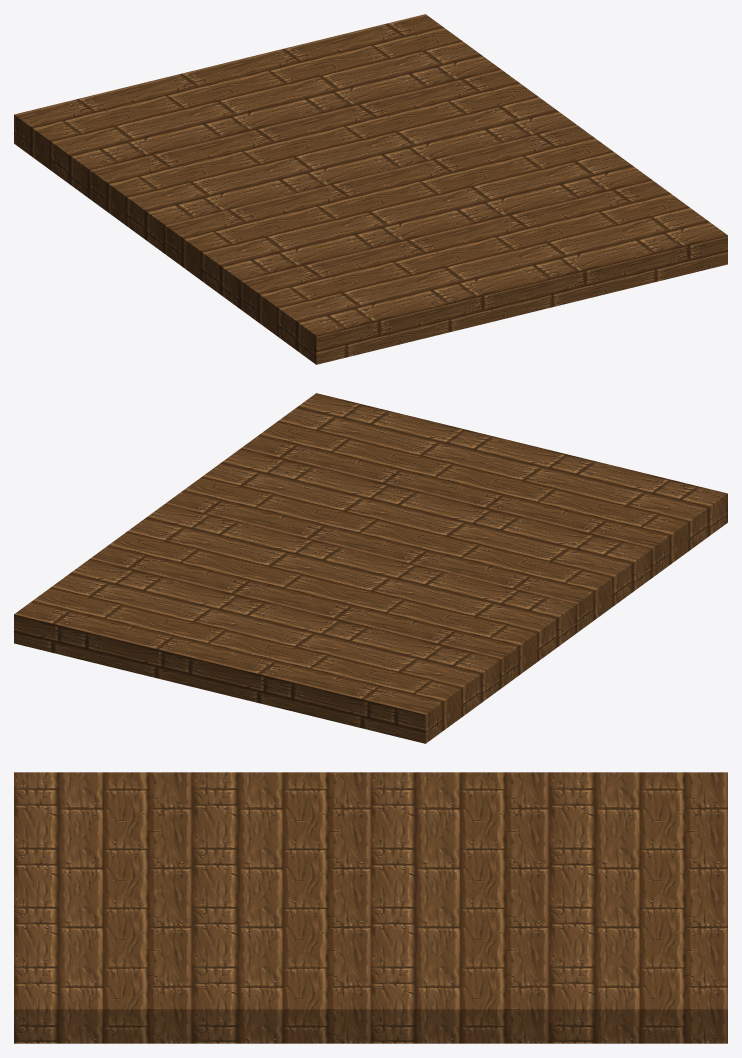
Rendered from wood_floor.fbx.
3 renders of one model, top to bottom at view 1: azimuth 30°, elevation 25°; view 2: azimuth 150°, elevation 25°; view 3: azimuth 270°, elevation 25°, orthographic. The views are drawn at different scales.
Visible parts, largest first — view 1: floor1, floor3, floor2, floor4; view 2: floor2, floor4, floor1, floor3; view 3: floor3, floor4, floor1, floor2.
Part boxes in pixels (x1,y1,x2,y2): floor1: (165,175,521,364); floor3: (371,125,727,314); floor2: (14,64,370,253); floor4: (220,14,576,174); floor2: (220,554,576,743); floor4: (14,504,370,693); floor1: (371,443,727,632); floor3: (165,393,521,553); floor3: (14,891,370,1043); floor4: (371,891,727,1043); floor1: (14,772,370,890); floor2: (371,772,727,890).
Bounding box in the file's own units: 56.38 × 3.8 × 71.72.
